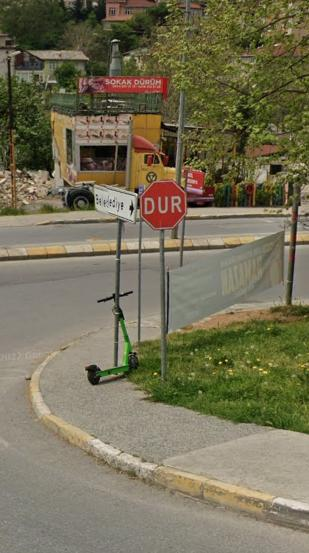stop: (139, 180, 187, 230)
